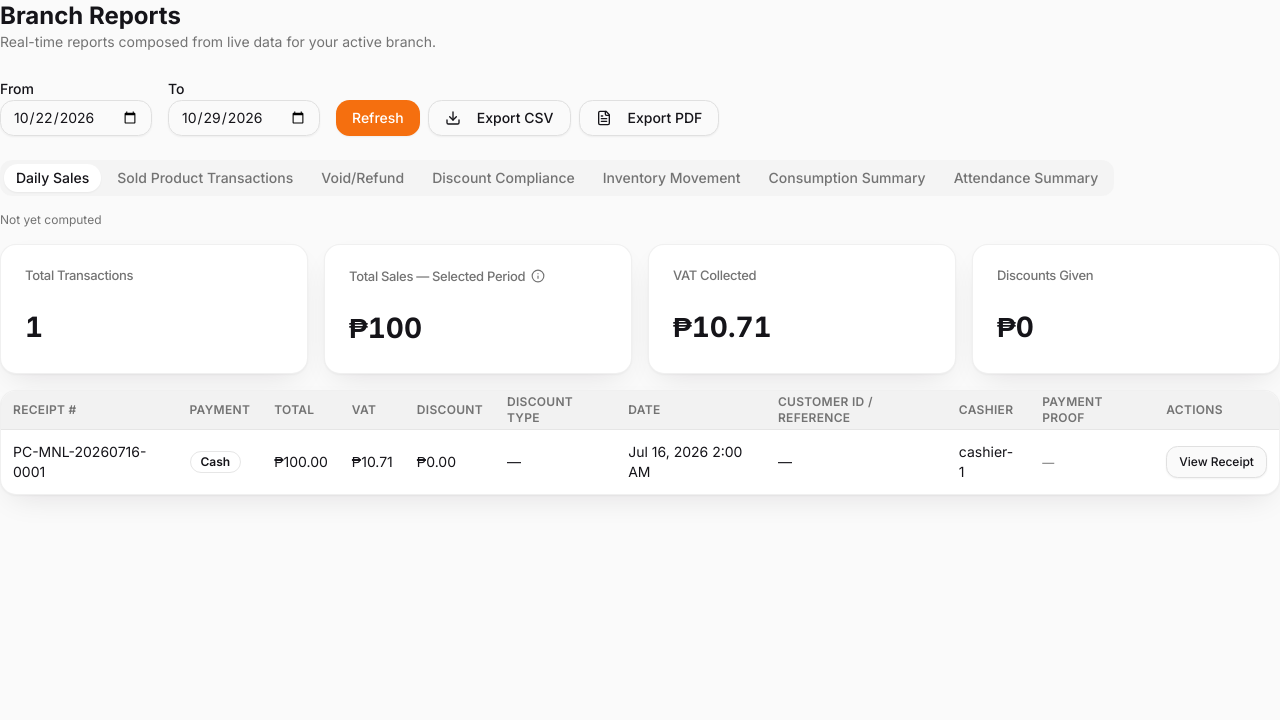
Test: SupervisorReportsPage › Daily Sales — receipt and payment-proof viewing (Phase 10-11) › opens the receipt modal with the fetched transaction when View Receipt is clicked
Expected: the text "Sale completed" is not shown
Click the button "View Receipt" at (1217,462), box [1166,446,1267,478]
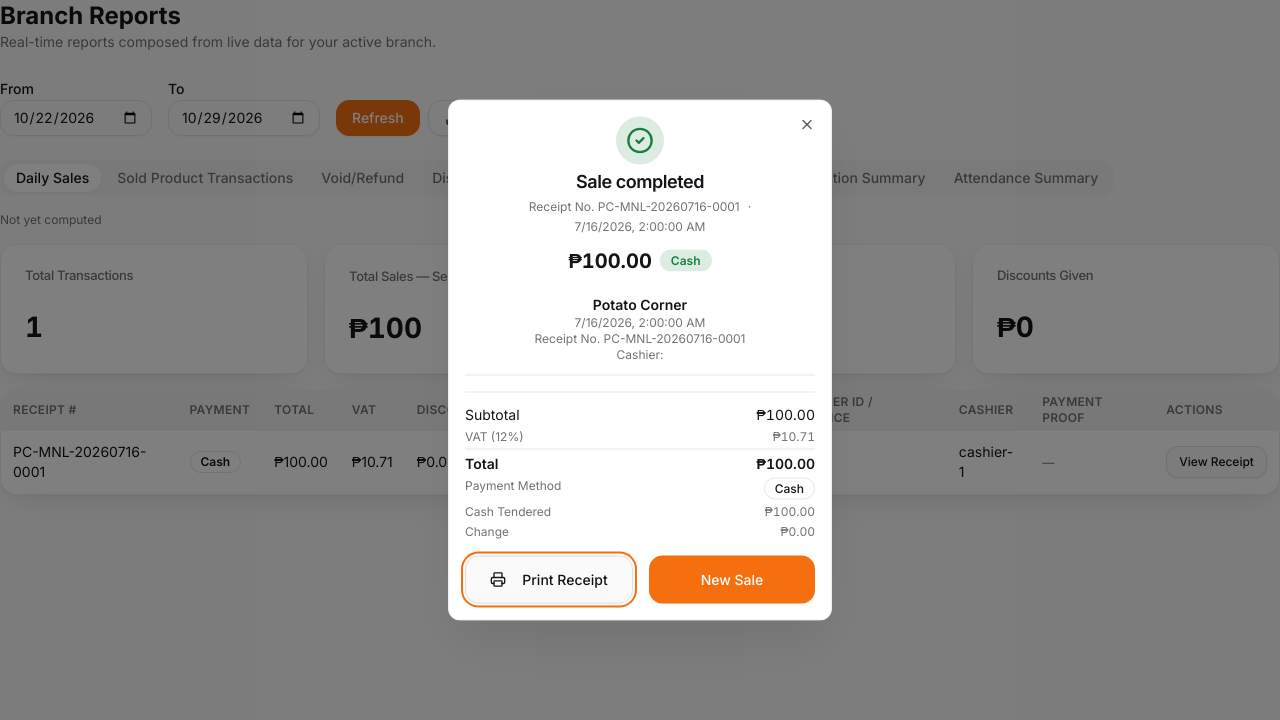
Expected: the heading "Sale completed" is shown, [576,172,704,190]
